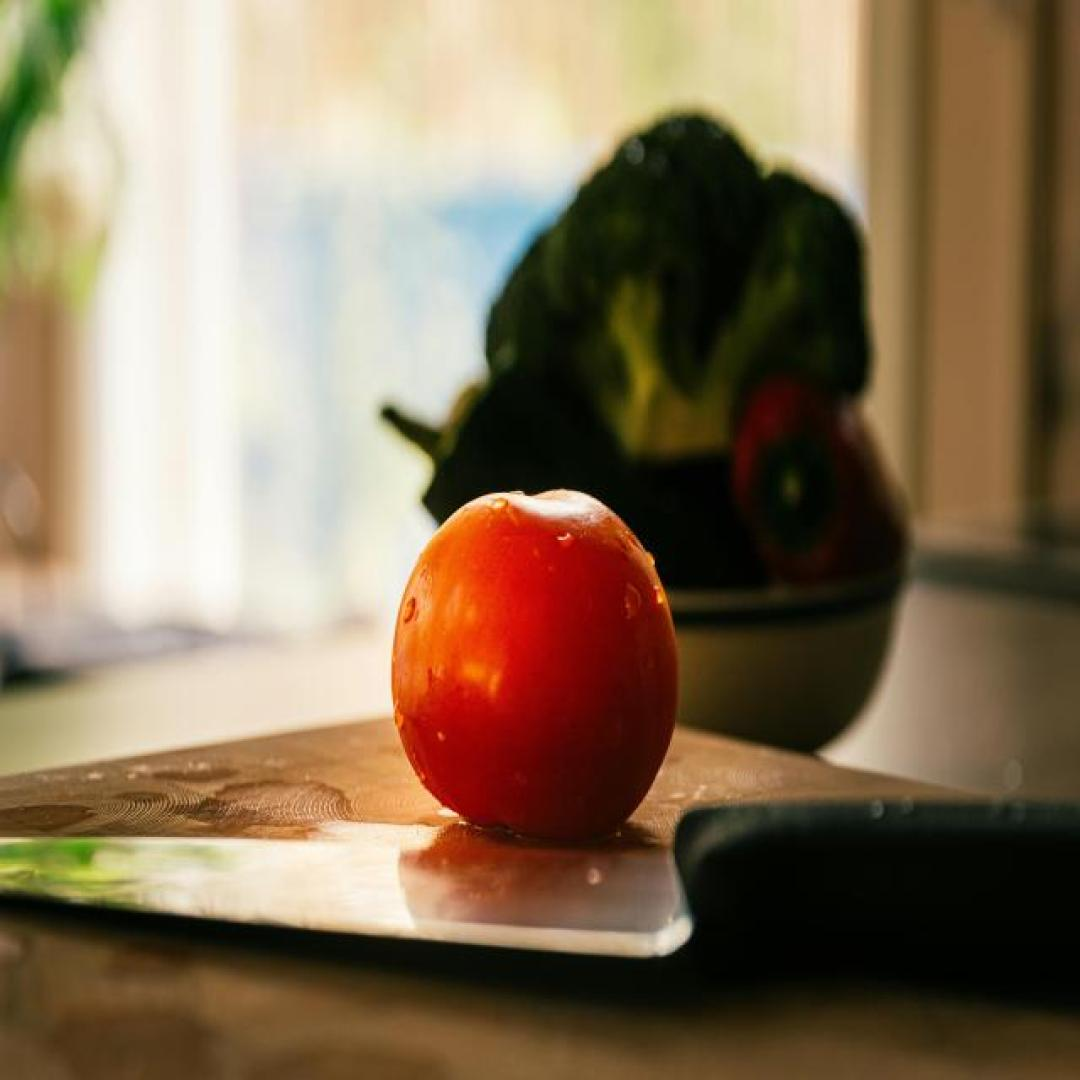matang: (393, 486, 678, 844)
